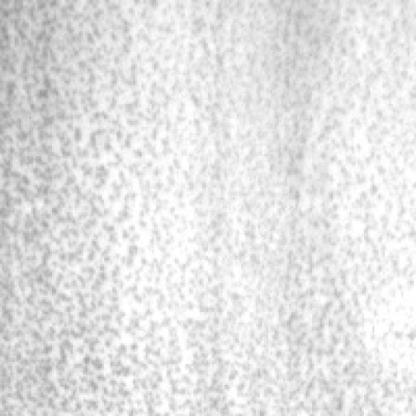pitted_surface: (0, 0, 412, 412)
